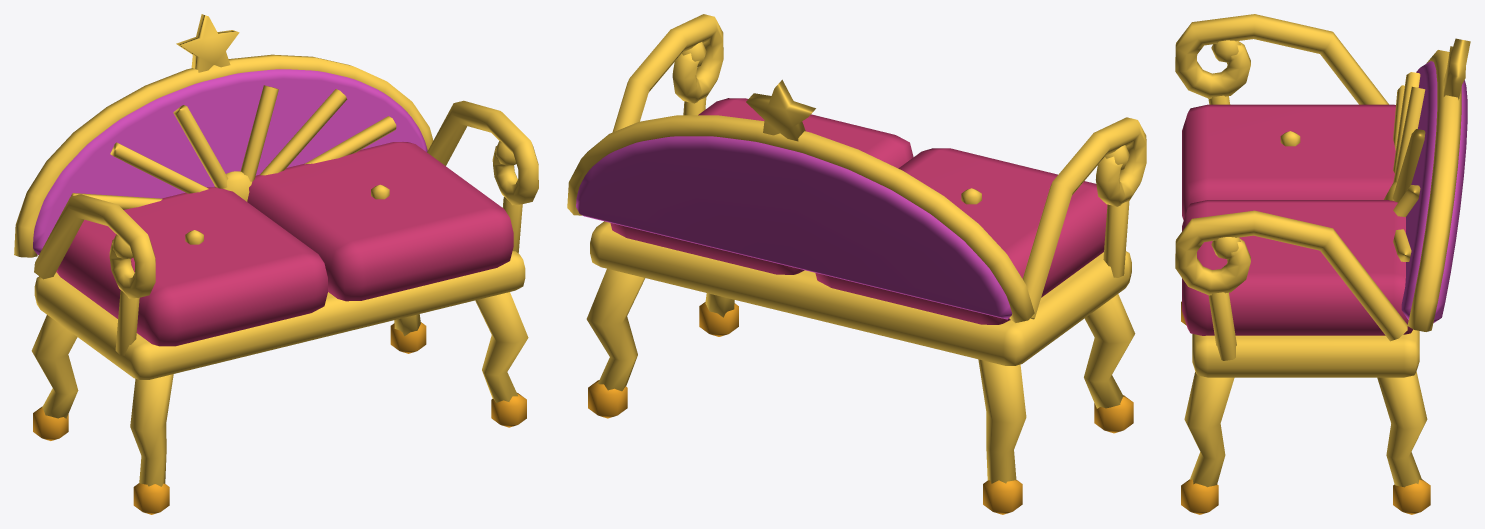
File: bench_marquee.glb
3 views of the same model, side by side, from view 1: azimuth 30°, elevation 25°; view 2: azimuth 150°, elevation 25°; view 3: azimuth 270°, elevation 25° (orthographic). The views are drawn at different scales.
Visible parts, largest first — view 1: Bench; view 2: Bench; view 3: Bench.
Part boxes in pixels (x1,y1,x2,y2): Bench: (14, 14, 538, 514); Bench: (567, 14, 1146, 514); Bench: (1175, 14, 1470, 514).
Bounding box in the file's own units: 0.9809 × 0.8213 × 0.5717.
